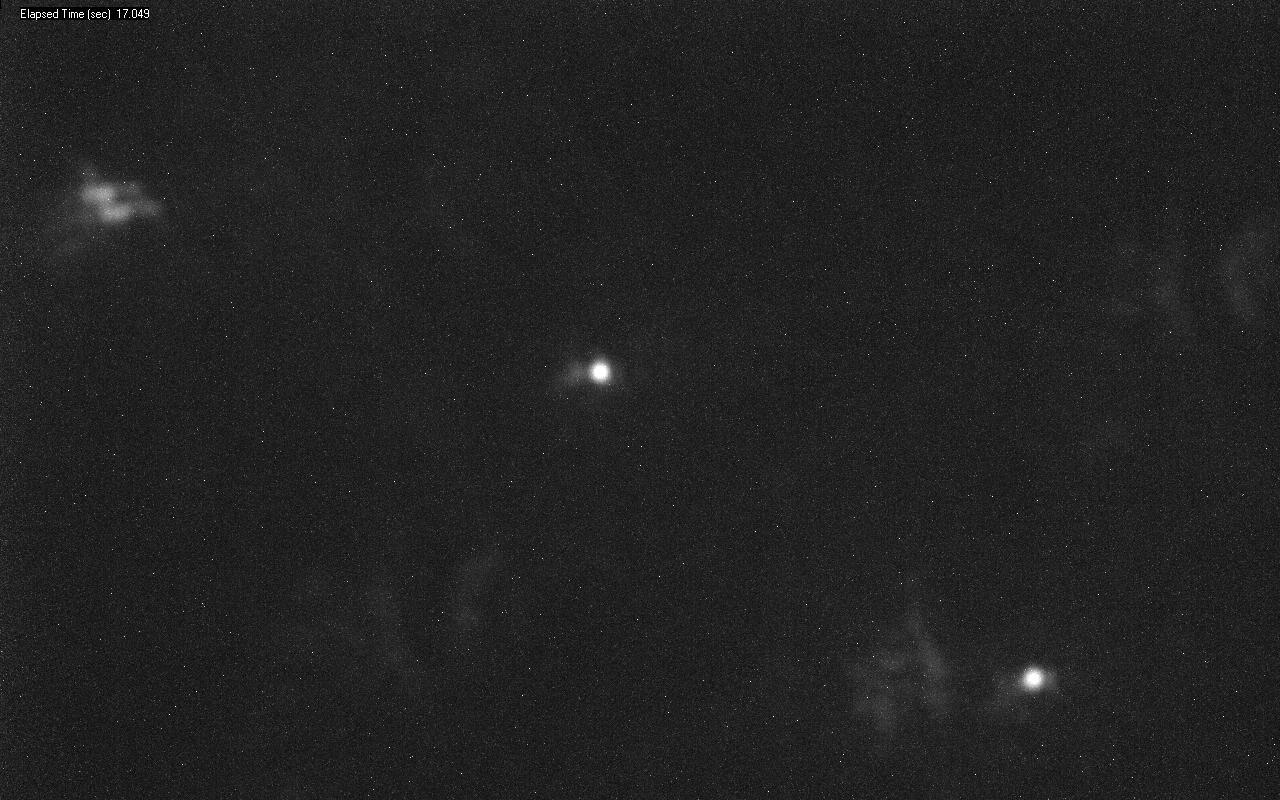Bead: (1022, 668, 1044, 690), (592, 360, 610, 383)
